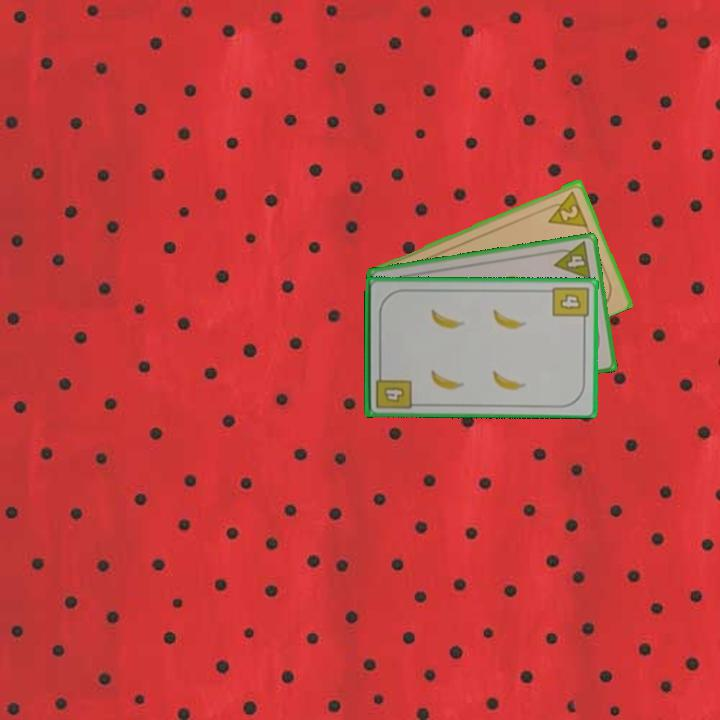2p: (541, 186, 590, 230)
4b: (549, 283, 591, 327), (372, 367, 414, 411)
4p: (549, 238, 594, 283)
